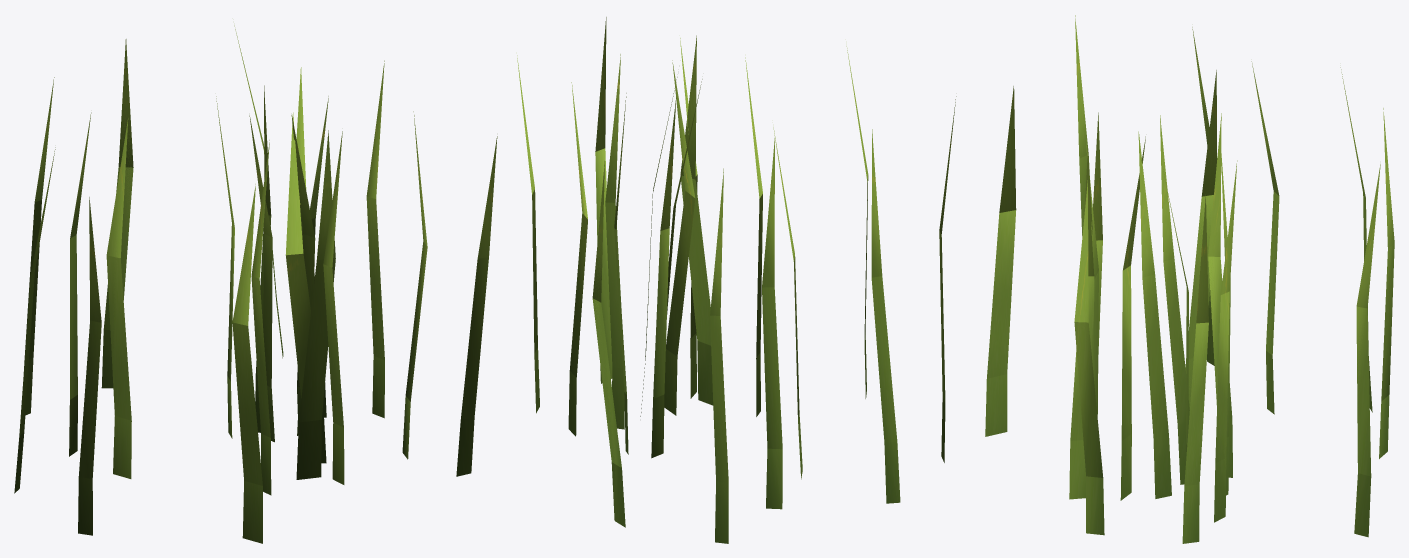
File: Sm_Grass5.fbx
The picture shows the model from 3 angles, left to right: view 1: azimuth 30°, elevation 25°; view 2: azimuth 150°, elevation 25°; view 3: azimuth 270°, elevation 25°; orthographic projection. The views are drawn at different scales.
Visible parts, largest first — view 1: Sm_Grass5; view 2: Sm_Grass5; view 3: Sm_Grass5.
Part boxes in pixels (x1,y1,x2,y2): Sm_Grass5: (14, 25, 427, 543); Sm_Grass5: (456, 17, 956, 543); Sm_Grass5: (985, 15, 1394, 543).
Bounding box in the file's own units: 67.78 × 62.07 × 63.52.
